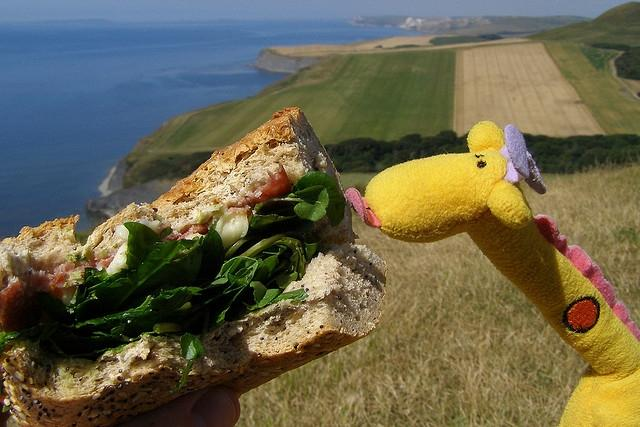lettuce: (82, 238, 202, 322), (171, 221, 225, 287), (73, 295, 155, 329), (255, 186, 329, 221), (54, 320, 126, 338), (37, 292, 70, 322)
